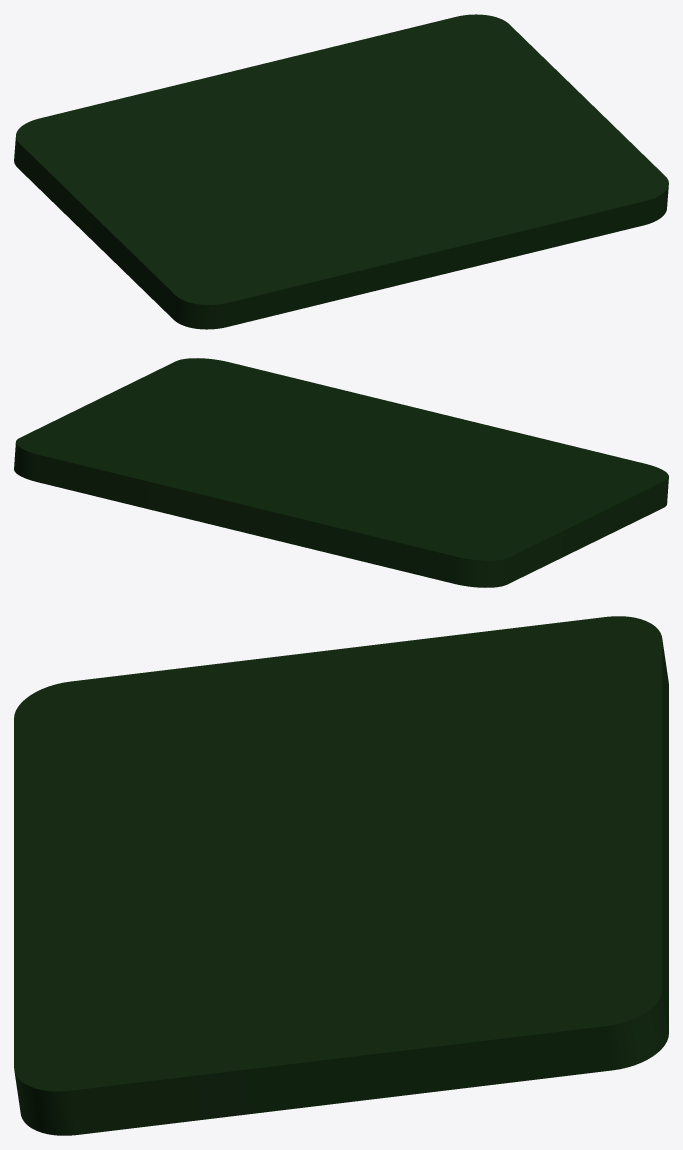
The model's file is original-9.obj.
3 renders of one model, top to bottom at view 1: azimuth 30°, elevation 25°; view 2: azimuth 150°, elevation 25°; view 3: azimuth 270°, elevation 25°, orthographic. The views are drawn at different scales.
Parts seen in each view (by area): view 1: mesh9/mesh9-geometry#mesh9-geometry; view 2: mesh9/mesh9-geometry#mesh9-geometry; view 3: mesh9/mesh9-geometry#mesh9-geometry.
Boxes of the visible parts, box(x1,y1,x2,y2) form: mesh9/mesh9-geometry#mesh9-geometry: box(14, 14, 668, 329); mesh9/mesh9-geometry#mesh9-geometry: box(14, 358, 668, 587); mesh9/mesh9-geometry#mesh9-geometry: box(14, 616, 668, 1135).
Size of the model in its own units: 0.1436 by 0.0201 by 0.0971.
